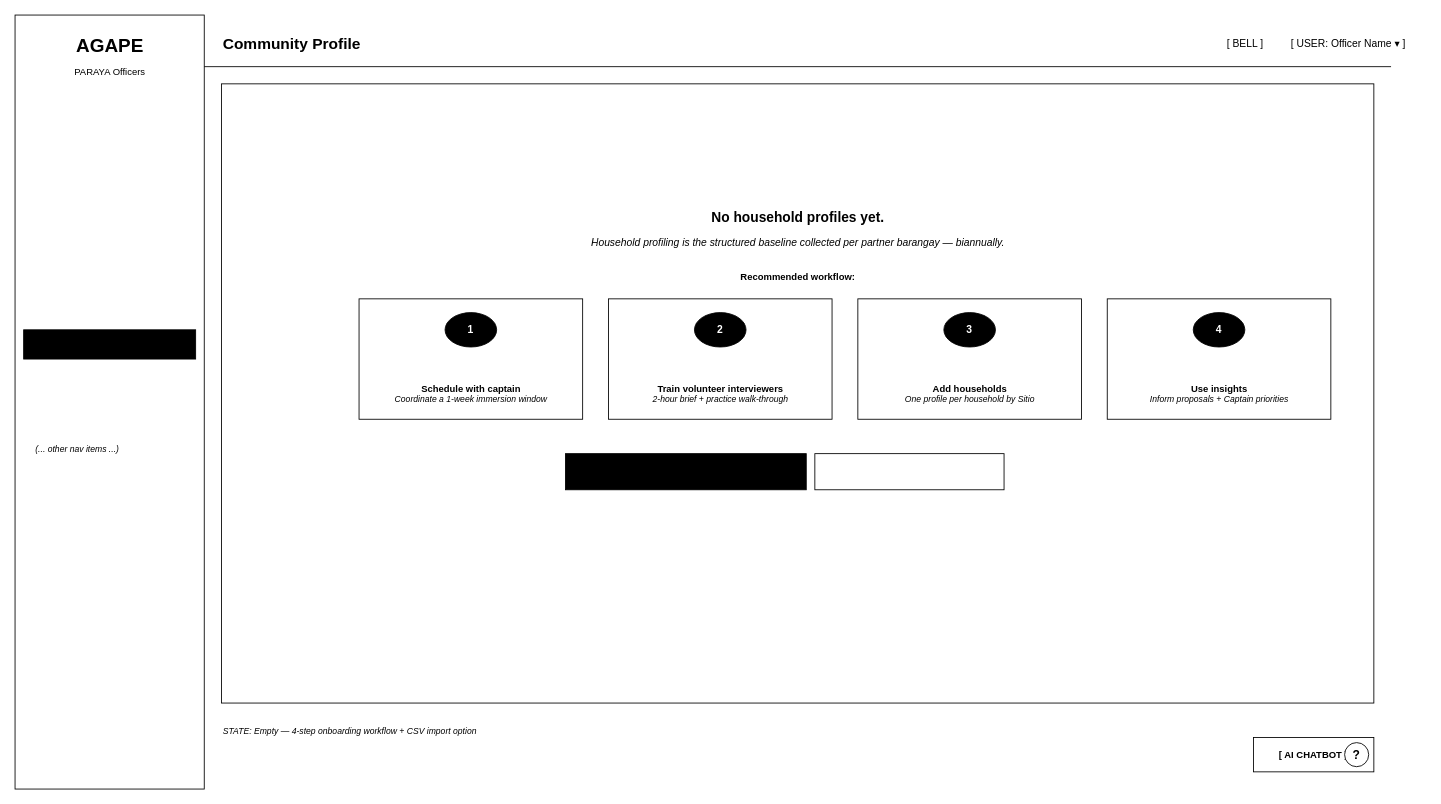
This 1441x804 diagram has some shape labels left out. The centre of each missing label's shape, as x and y in pixels:
"[ + ADD FIRST HOUSEHOLD ]" goes at point (685, 471).
"[ 📯 Import from CSV ]" goes at point (909, 471).
"[x] Community Profile" goes at point (109, 344).
